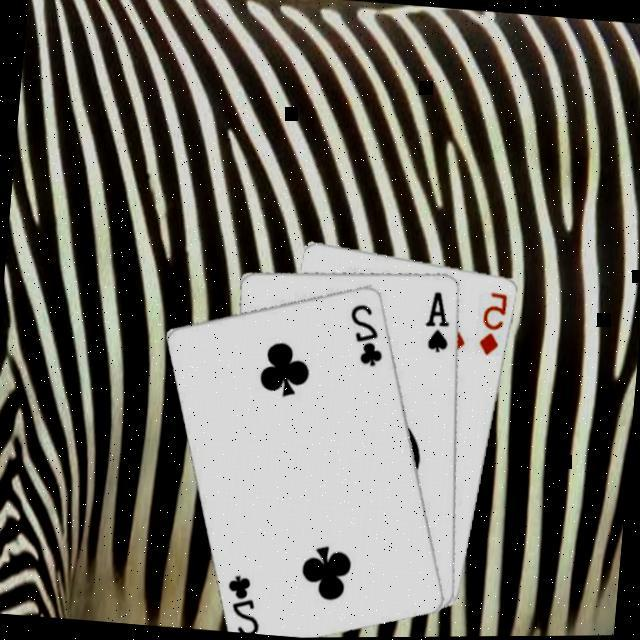2C: (344, 297, 392, 368), (222, 567, 268, 634)
5D: (475, 286, 513, 358)
AS: (420, 286, 457, 354)
